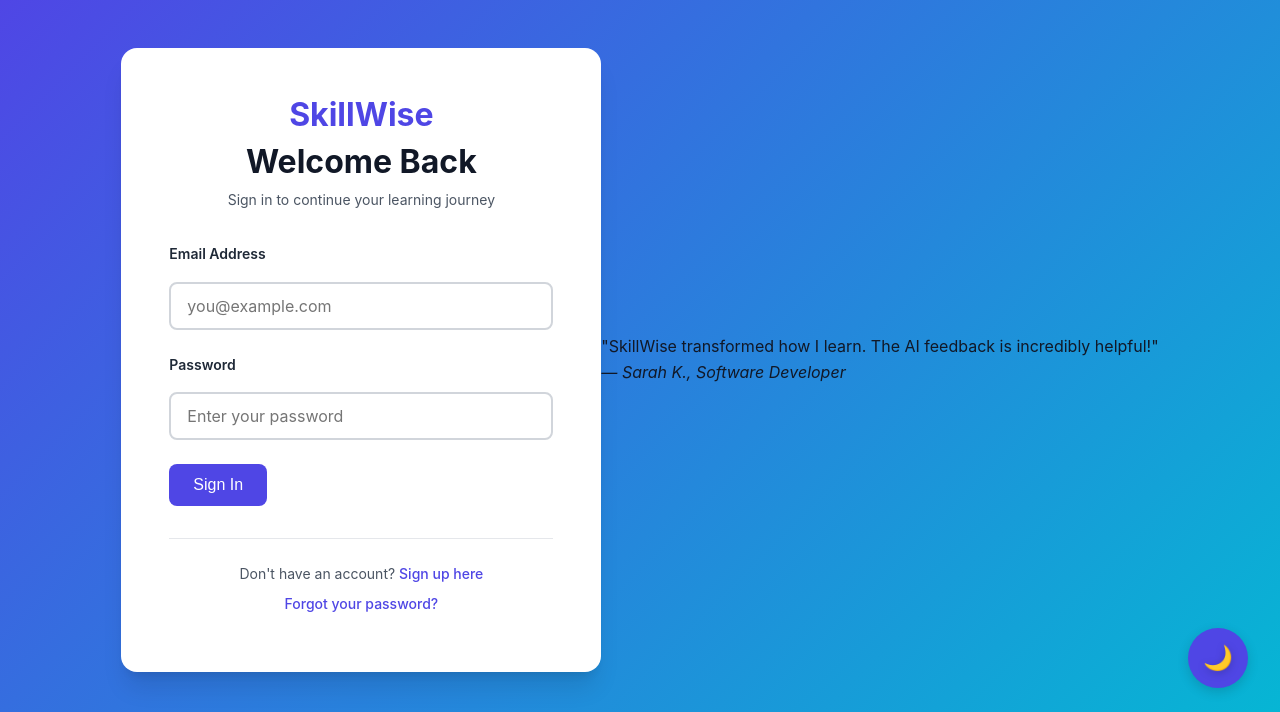
Complete SkillWise User Workflow › should handle workflow errors gracefully
# Test login with non-existent user
Type "nonexistent@example.com" into the field with id "email" at (361, 306), box [169,282,553,330]
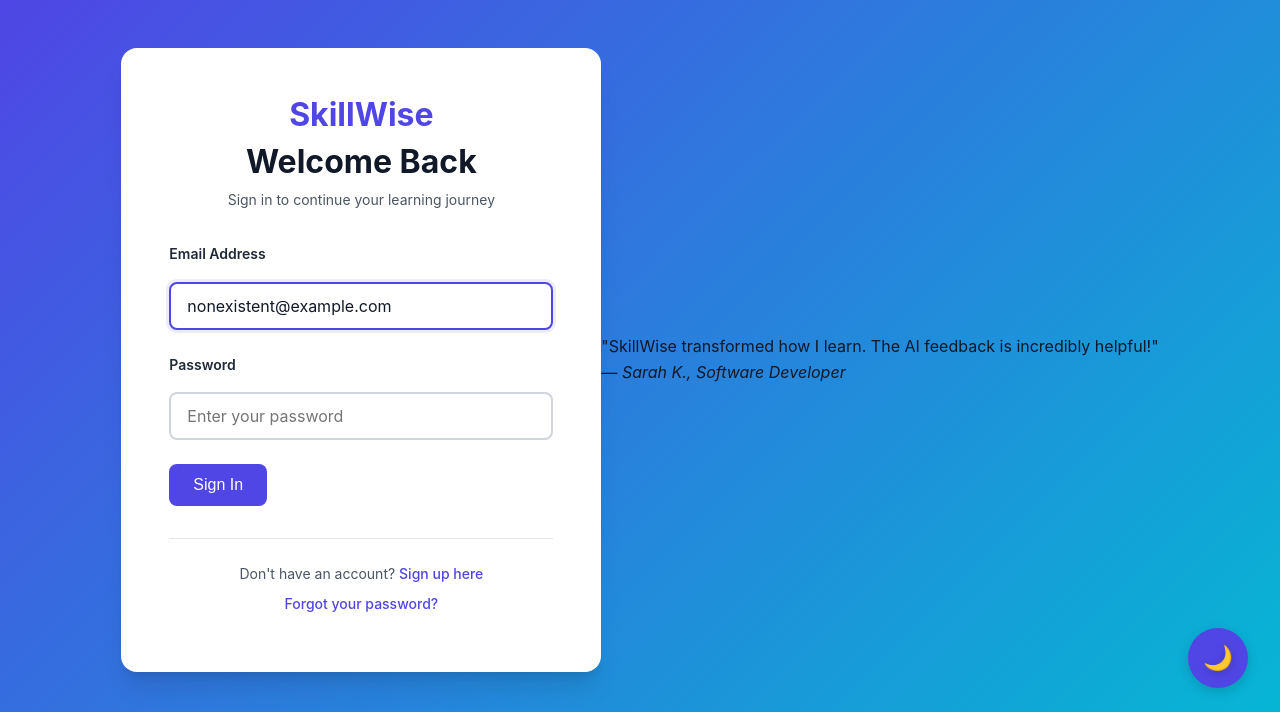
Type "wrongpassword" into the password field labelled "Password" at (361, 416), box [169,392,553,440]
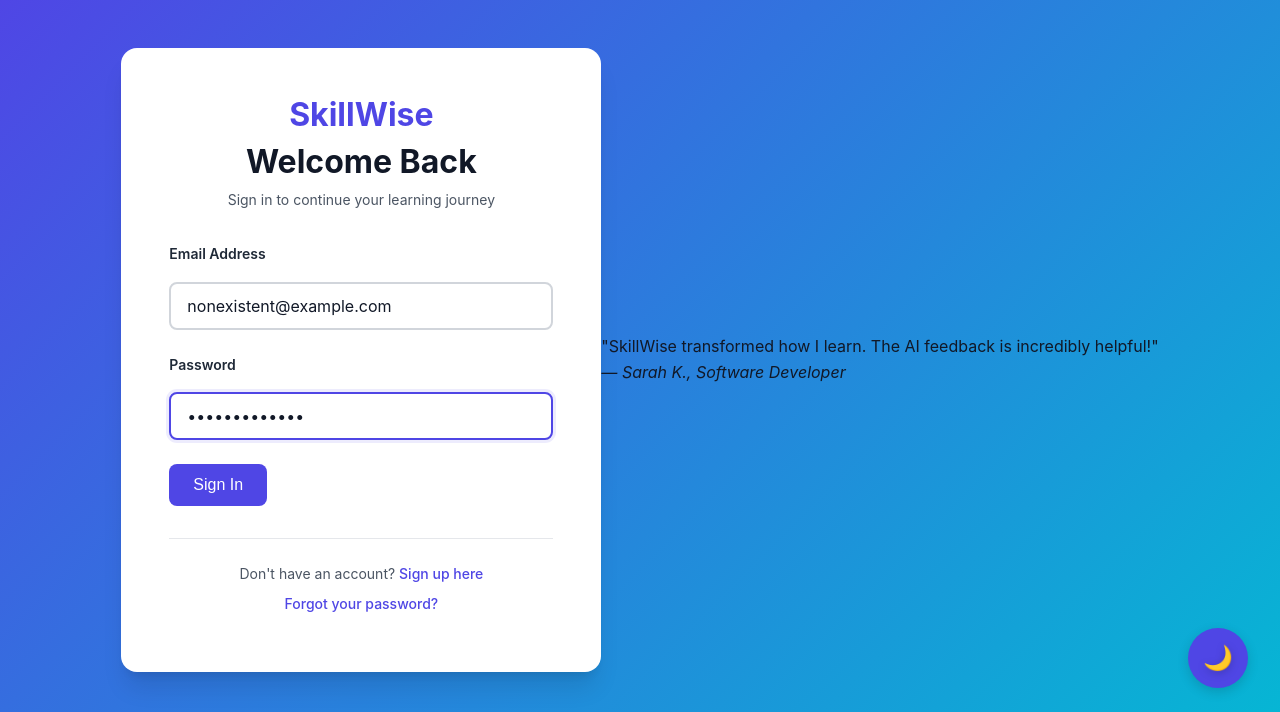
Click the button "Sign In" at (218, 485), box [169,464,267,506]
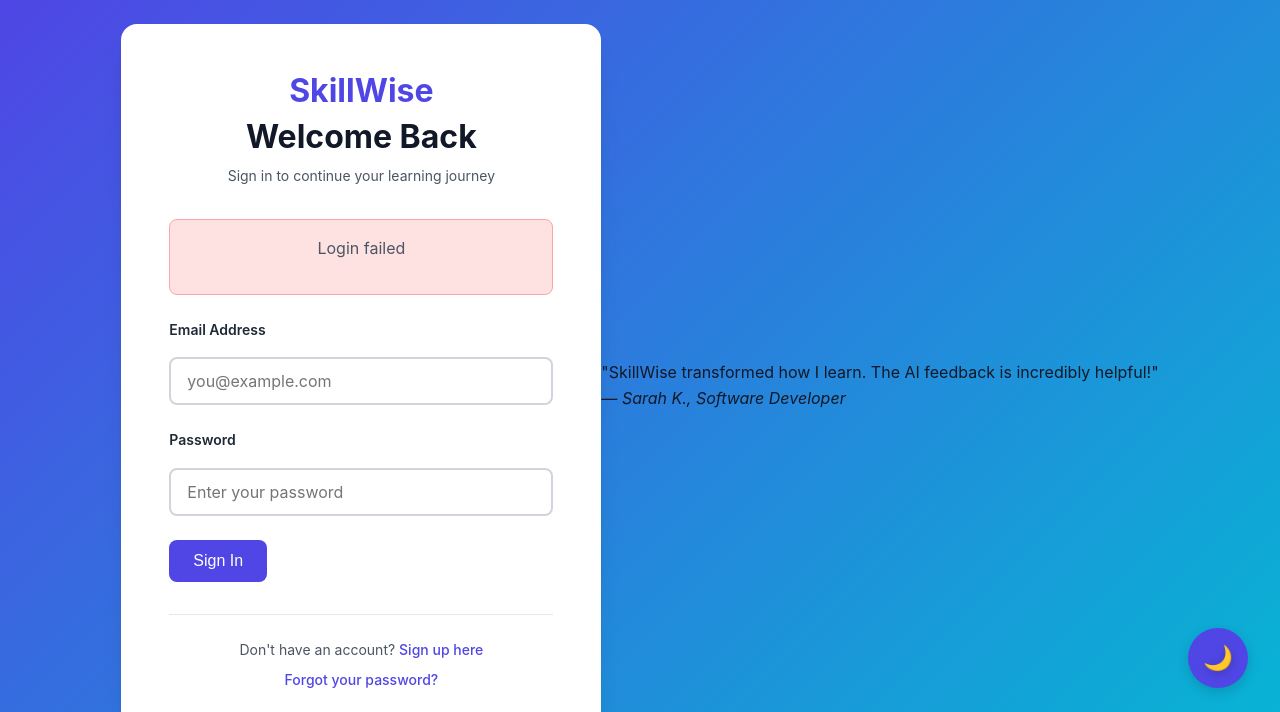
Open "/signup"
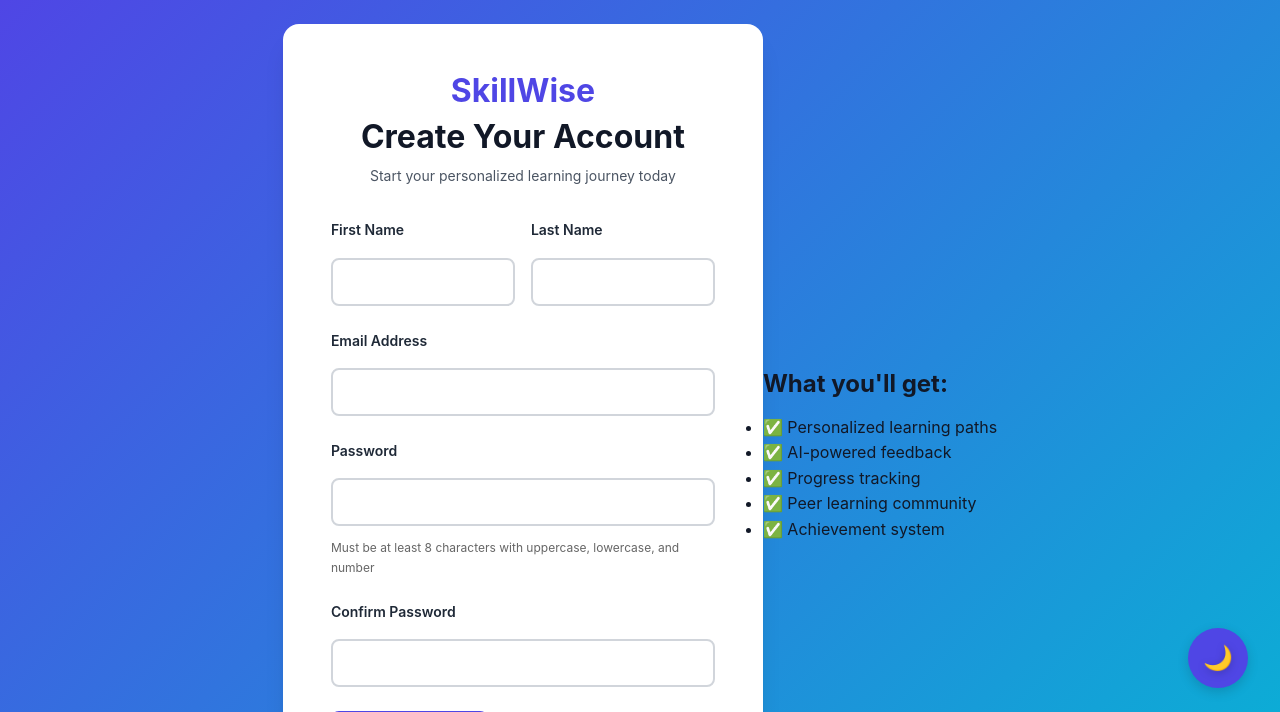
Scroll
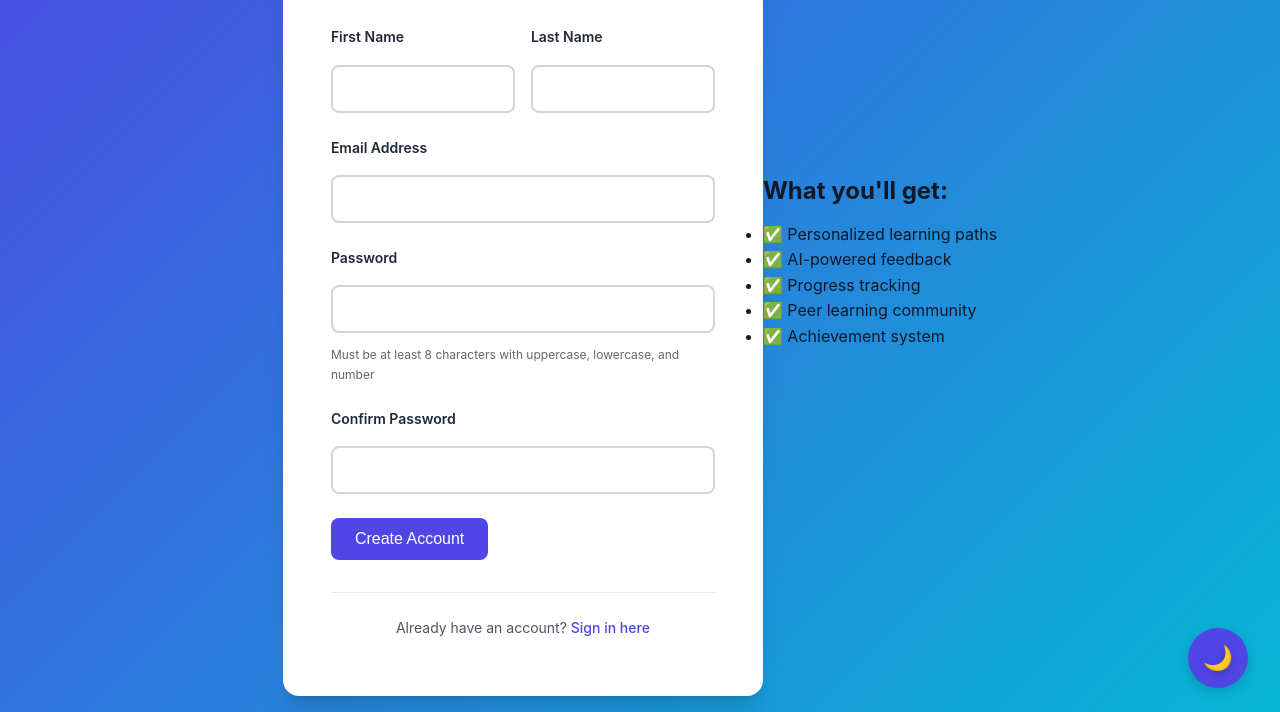
Click the button "Create Account" at (410, 539), box [331,518,488,560]
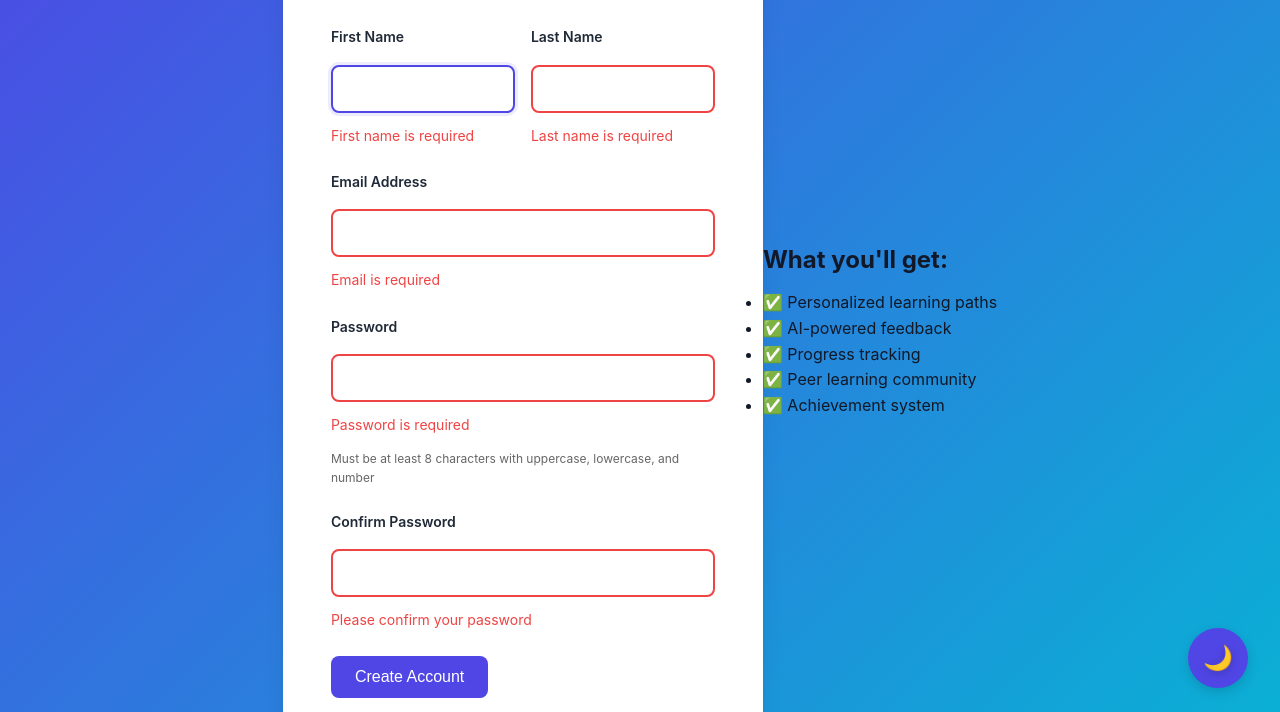
Expected: the text "First name is required" is shown, [331,127,474,144]
